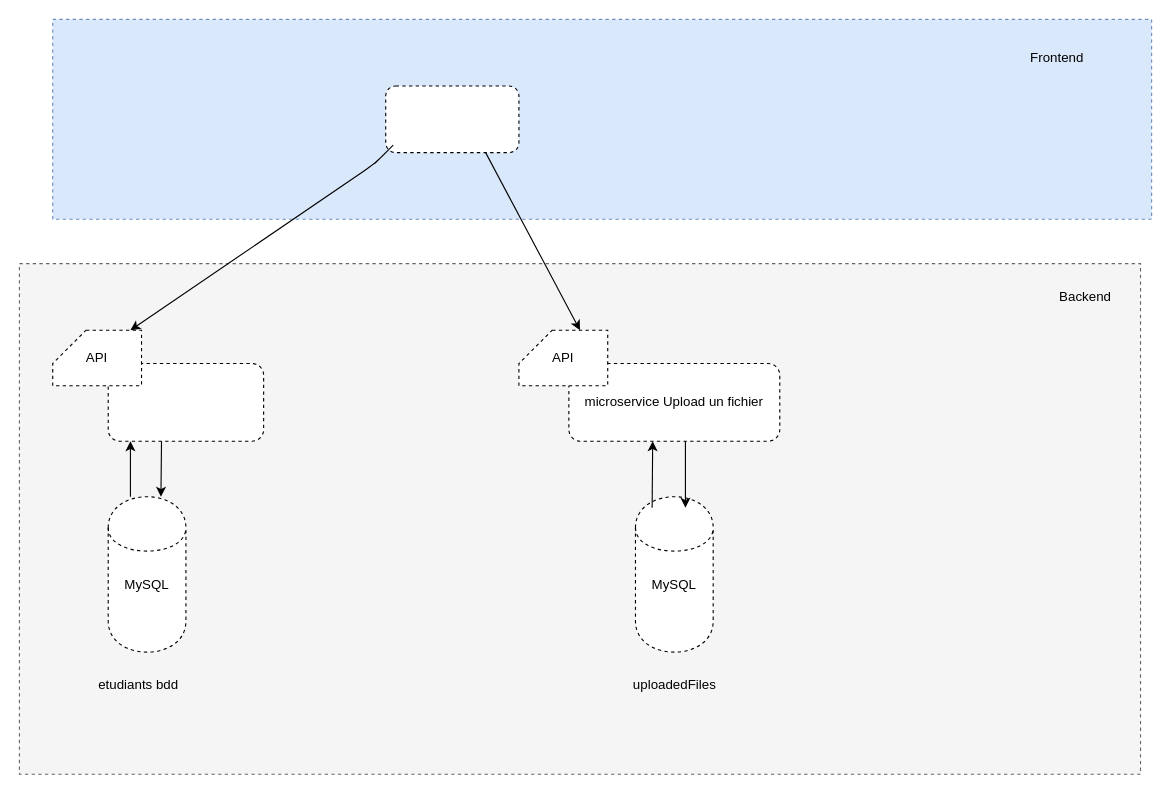
This 1171x794 diagram has some shape labels left out. Each missing label, with the centre of its shape:
Client: the point at 452,119
microservice Ajouter des etudiants: the point at 185,401
